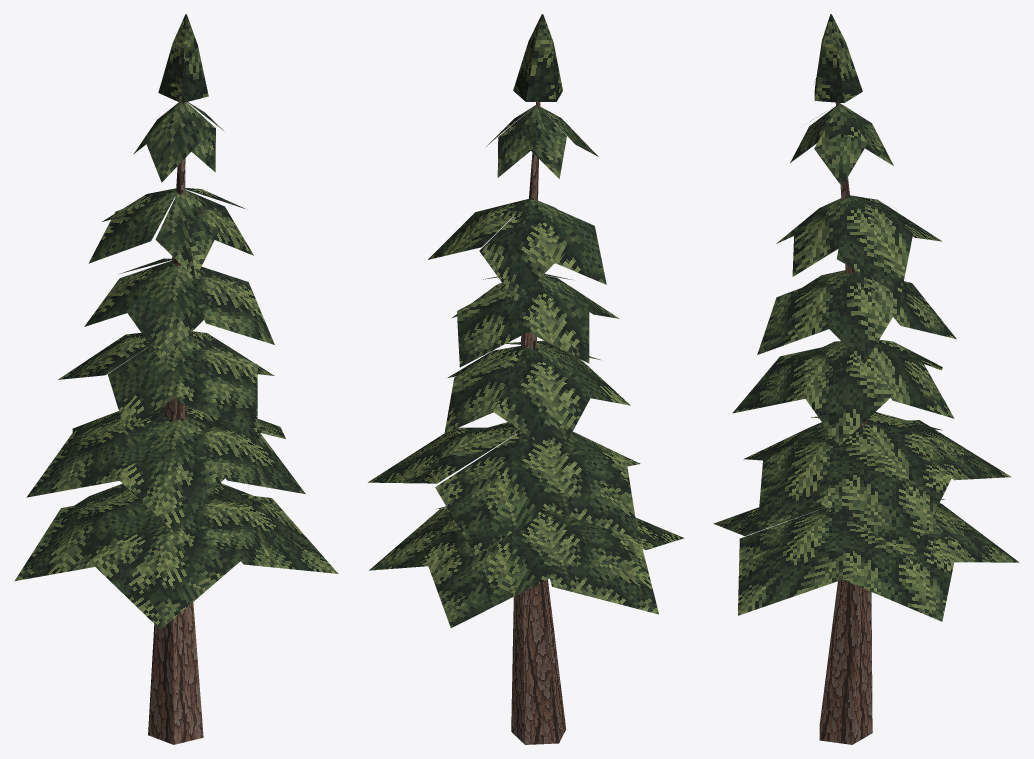
Rendered from TREE_Pine_A_LOD2.glb.
3 views of the same model, side by side, from view 1: azimuth 30°, elevation 25°; view 2: azimuth 150°, elevation 25°; view 3: azimuth 270°, elevation 25° (orthographic).
Visible parts, largest first — view 1: TREE_Pine_A_LOD2__Foliage, TREE_Pine_A_LOD2__Bark; view 2: TREE_Pine_A_LOD2__Foliage, TREE_Pine_A_LOD2__Bark; view 3: TREE_Pine_A_LOD2__Foliage, TREE_Pine_A_LOD2__Bark.
Boxes of the visible parts, left/top/right/bottom form: TREE_Pine_A_LOD2__Foliage: left=14, top=14, right=338, bottom=629; TREE_Pine_A_LOD2__Bark: left=148, top=102, right=203, bottom=744; TREE_Pine_A_LOD2__Foliage: left=368, top=14, right=684, bottom=627; TREE_Pine_A_LOD2__Bark: left=511, top=102, right=566, bottom=744; TREE_Pine_A_LOD2__Foliage: left=713, top=14, right=1019, bottom=621; TREE_Pine_A_LOD2__Bark: left=819, top=102, right=872, bottom=744.
Bounding box in the file's own units: 5.09 × 12.52 × 4.83.
2 materials, 2 textured.
